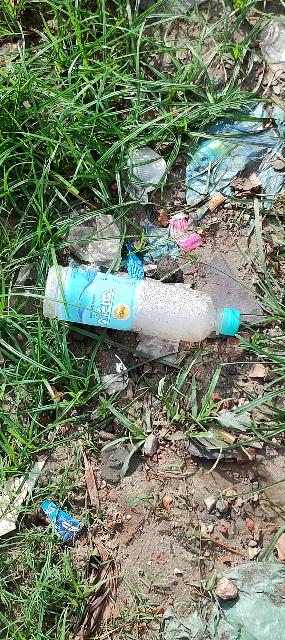bottle: (41, 258, 248, 349)
